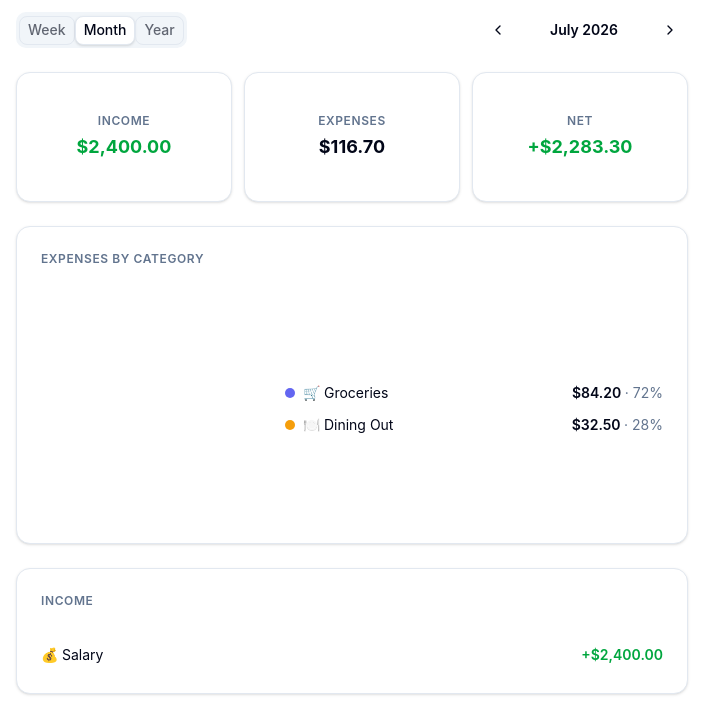
Test: ReportsPage › shows a Today button only when off the current period
Expected: the text "🛒 Groceries" is shown, [285,383,388,403]
Expected: the button "today" is not shown
Click the button named "previous period" at (498, 30), box [480,12,516,48]
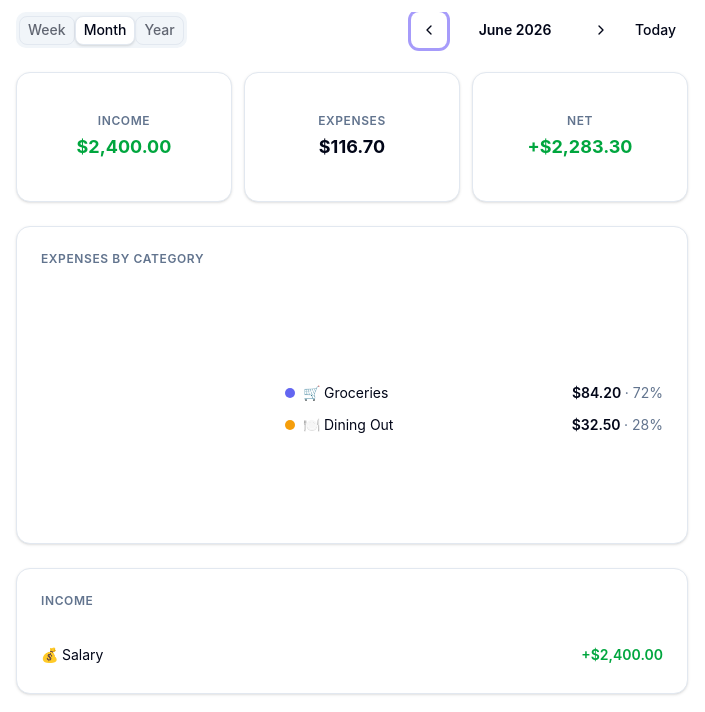
Click the button "Today" at (656, 30), box [623,14,688,46]
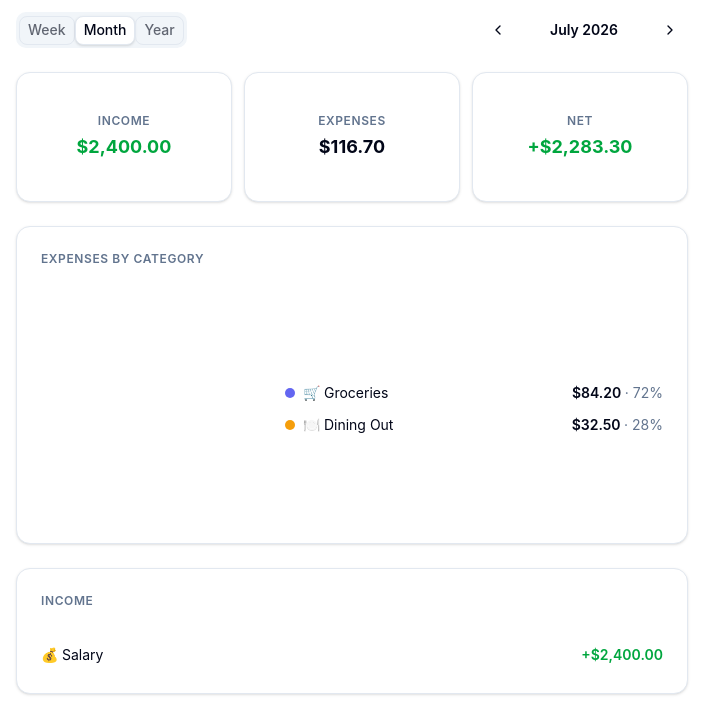
Expected: the button "Today" is gone
